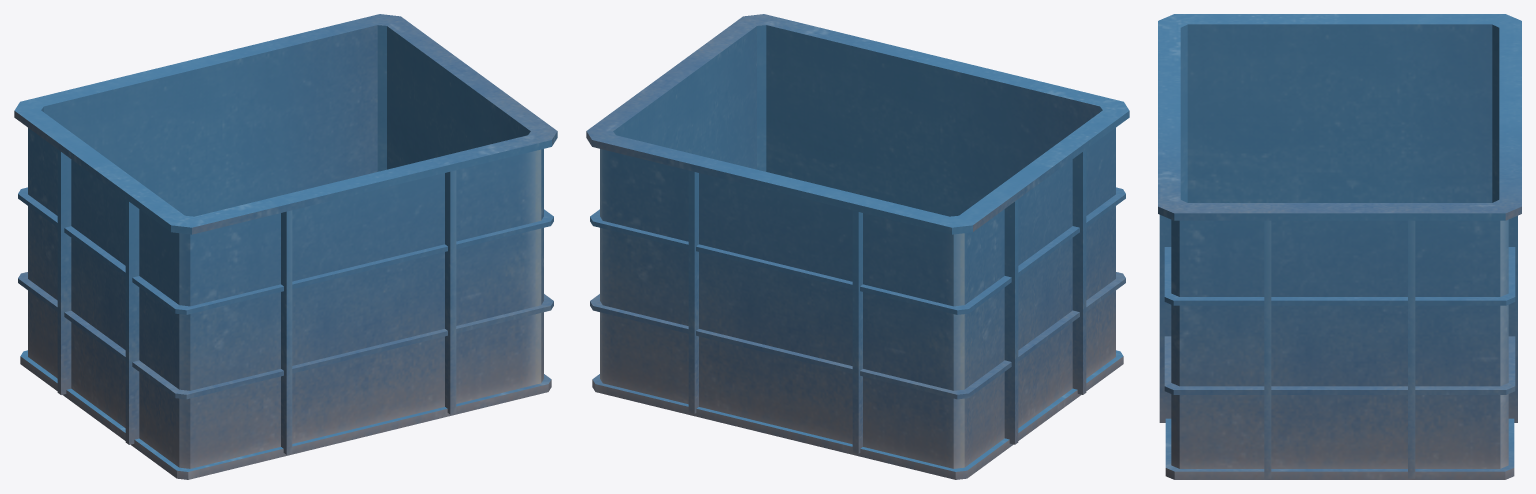
The model's file is cabin10a.fbx.
3 renders of one model, left to right at view 1: azimuth 30°, elevation 25°; view 2: azimuth 150°, elevation 25°; view 3: azimuth 270°, elevation 25°, orthographic. The views are drawn at different scales.
Visible parts, largest first — view 1: cabin10a; view 2: cabin10a; view 3: cabin10a.
Part boxes in pixels (x1=…): cabin10a: x1=14, y1=14, x2=557, y2=479; cabin10a: x1=586, y1=14, x2=1129, y2=479; cabin10a: x1=1158, y1=14, x2=1521, y2=479.
Bounding box in the file's own units: 73.57 × 46.36 × 56.73.
